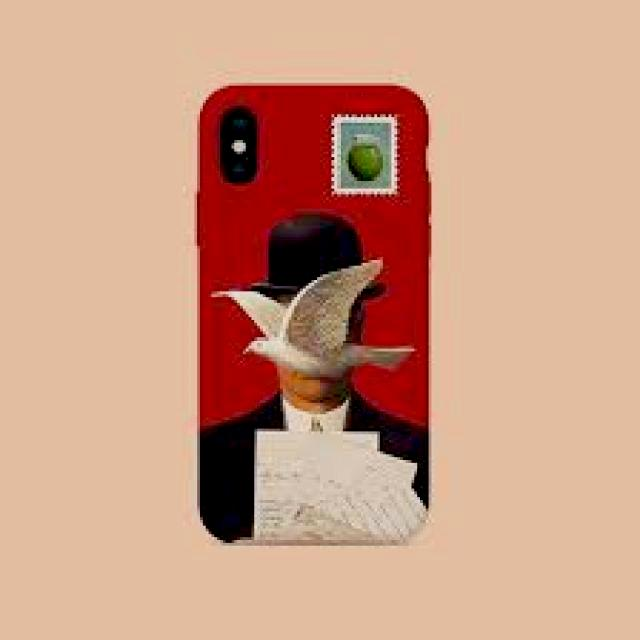lens: (222, 107, 257, 185)
phone: (190, 76, 438, 553)
